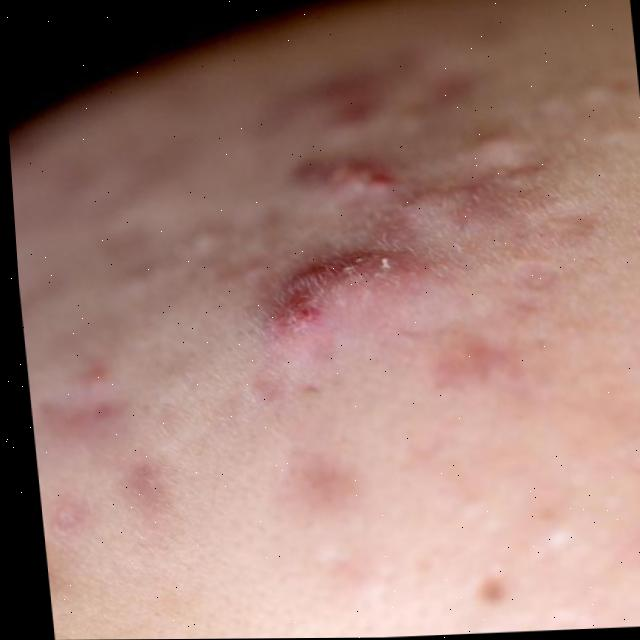Acne: (2, 20, 640, 537)
